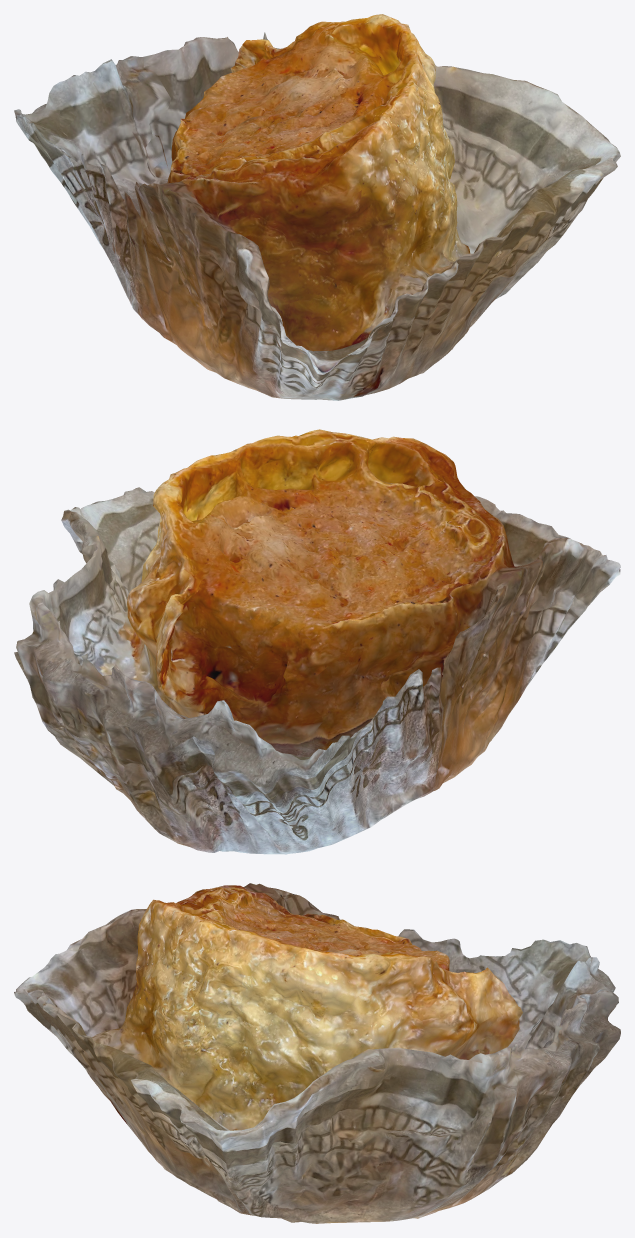
The model's file is Fried Crab Dim Sum.glb.
3 views of the same model, one above another, from view 1: azimuth 30°, elevation 25°; view 2: azimuth 150°, elevation 25°; view 3: azimuth 270°, elevation 25° (orthographic). The views are drawn at different scales.
Parts seen in each view (by area): view 1: Mesh_0; view 2: Mesh_0; view 3: Mesh_0.
Boxes of the visible parts, x1,y1,x2,y2 form: Mesh_0: (14,14,620,400); Mesh_0: (14,429,620,854); Mesh_0: (14,883,620,1223).
Size of the model in its own units: 0.0725 by 0.0458 by 0.0918.
Materials: 1 (1 with a texture image).
